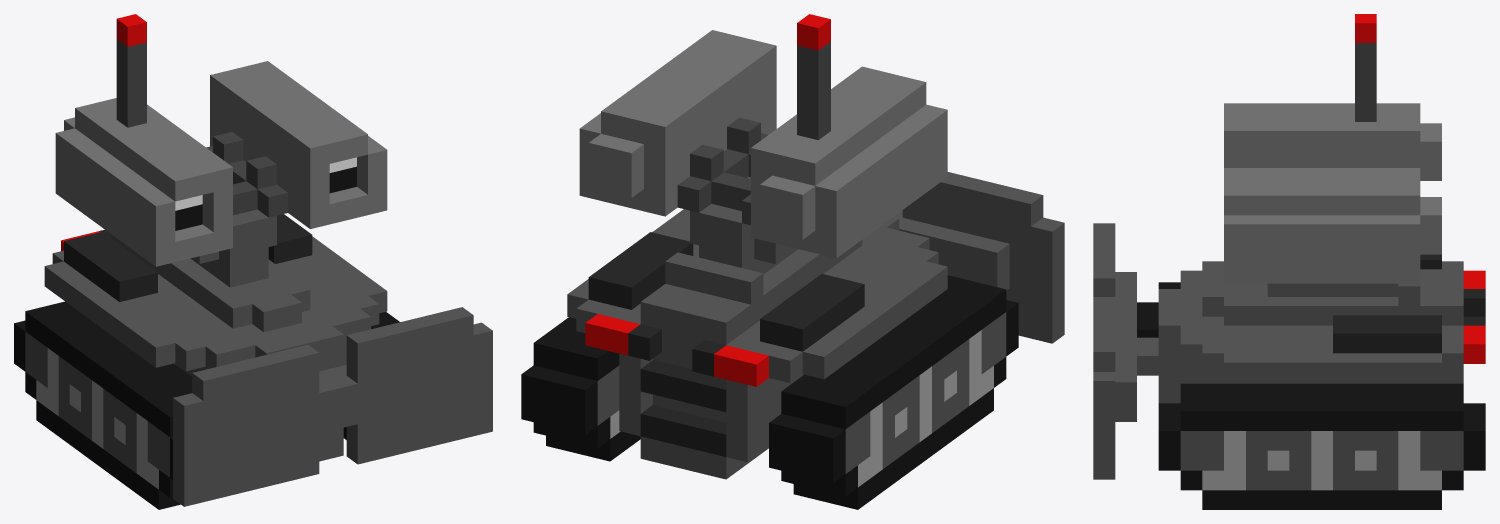
Rendered from RobotoMech.fbx.
The picture shows the model from 3 angles, left to right: view 1: azimuth 30°, elevation 25°; view 2: azimuth 150°, elevation 25°; view 3: azimuth 270°, elevation 25°; orthographic projection. The views are drawn at different scales.
Visible parts, largest first — view 1: _2, _3; view 2: _2, _3, _1; view 3: _2, _1, _3.
Part boxes in pixels (x1,y1,x2,y2): _2: [44, 14, 492, 506]; _3: [14, 301, 192, 509]; _2: [567, 14, 1064, 479]; _3: [769, 275, 1018, 509]; _1: [521, 317, 640, 461]; _2: [1093, 14, 1485, 479]; _1: [1158, 383, 1485, 509]; _3: [1137, 282, 1180, 337].
Bounding box in the file's own units: 16 × 20 × 18.
Materials: 1 (1 with a texture image).
